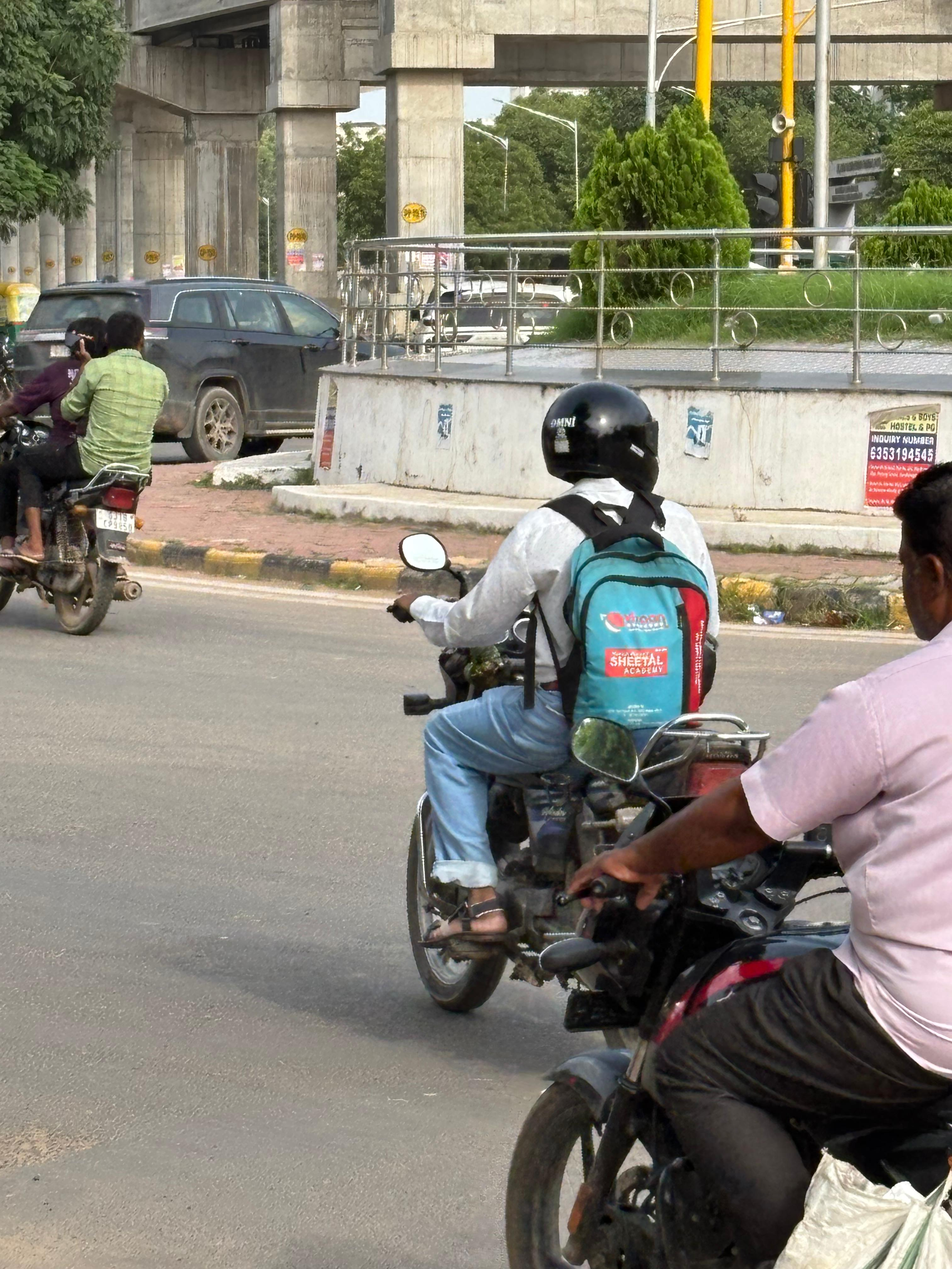BikeWithRider: (366, 369, 785, 1042), (0, 293, 169, 651)
Helmet: (526, 369, 675, 499)
NoHelmet: (99, 301, 155, 364), (48, 307, 111, 361)
